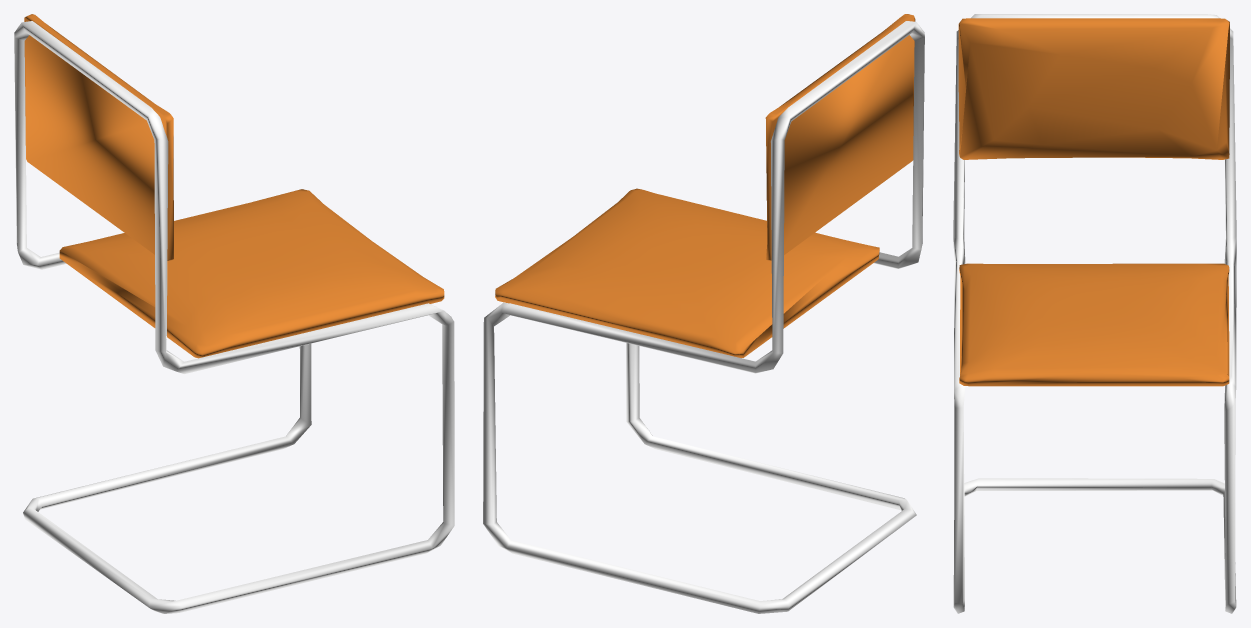
Rendered from SimpleChair.fbx.
3 renders of one model, left to right at view 1: azimuth 30°, elevation 25°; view 2: azimuth 150°, elevation 25°; view 3: azimuth 270°, elevation 25°, orthographic. The views are drawn at different scales.
Visible parts, largest first — view 1: Сиденье.001; view 2: Сиденье.001; view 3: Сиденье.001.
Boxes of the visible parts, x1,y1,x2,y2 form: Сиденье.001: (14, 14, 454, 613); Сиденье.001: (483, 14, 924, 613); Сиденье.001: (953, 14, 1236, 613).
Bounding box in the file's own units: 51.77 × 83.09 × 44.81.
